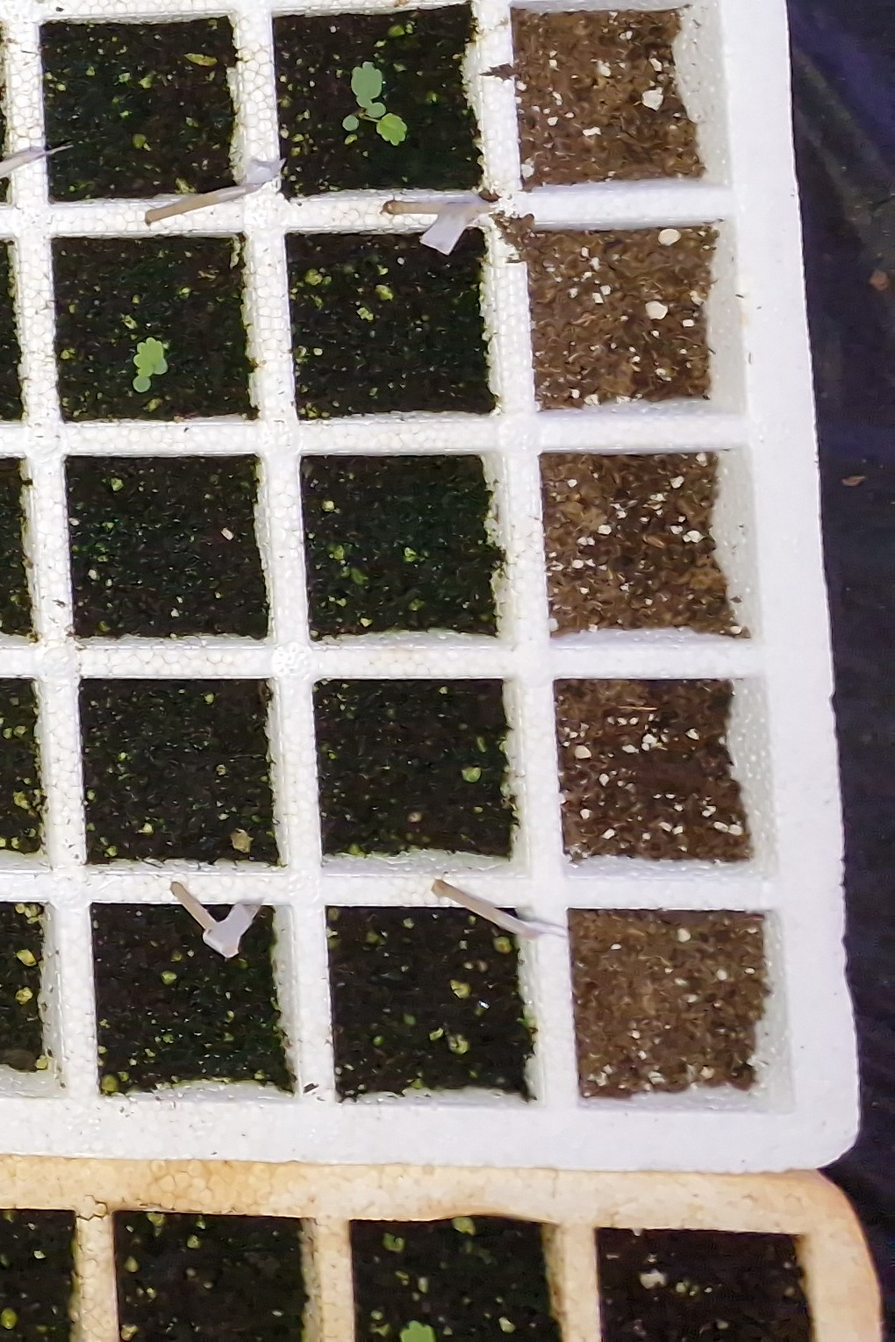Folha: (134, 337, 164, 377), (351, 63, 382, 98), (376, 113, 408, 146), (133, 376, 151, 392), (366, 102, 385, 117), (342, 115, 358, 131), (154, 359, 167, 374), (357, 96, 371, 108)
Germinacao: (342, 61, 408, 146), (133, 338, 169, 392)
